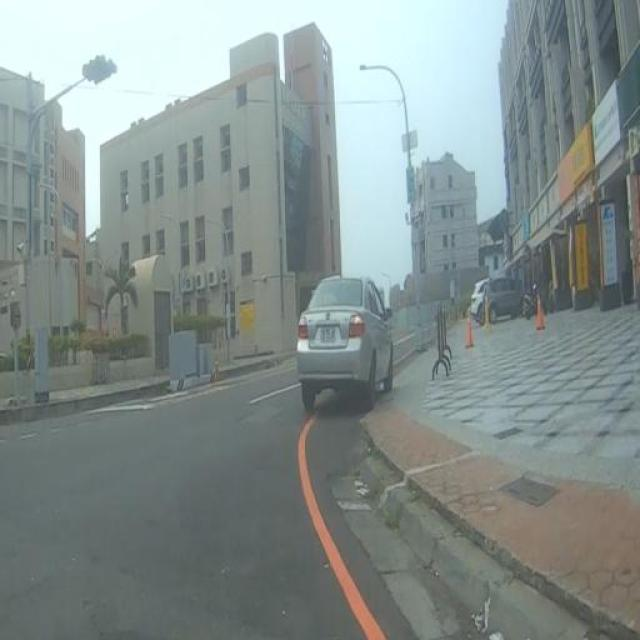illegalparking: (292, 255, 417, 422)
